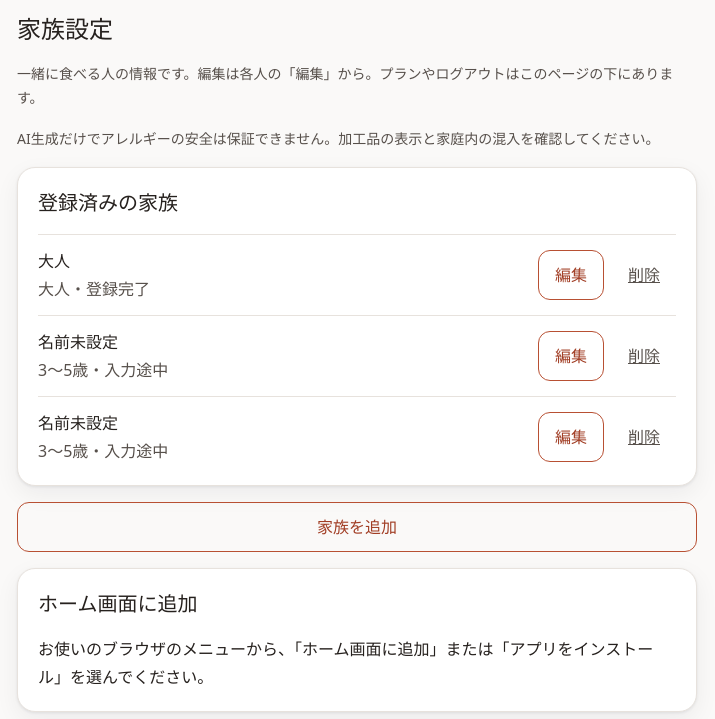
Test: 登録済み一覧と追加・編集領域を分け、同名・未設定でも一覧から一意に選べる
Check: the heading "登録済みの家族" is shown, box [38,189,178,216]
Check: the element "家族情報を追加・編集" is not shown
Step 1. Click the button with aria-label "2人目の名前未設定を編集" → (571, 356), box [538,331,604,381]
(page scrolled)
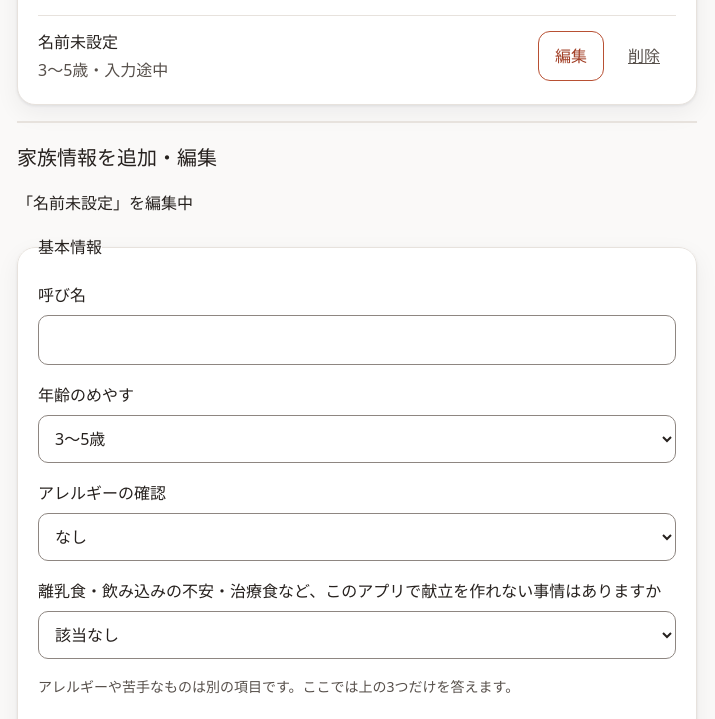
Check: the button "家族を追加" is gone
Check: the heading "「名前未設定」を編集中" is shown, box [17,192,193,214]
Check: the field labelled "呼び名" is empty, box [38,315,676,365]
